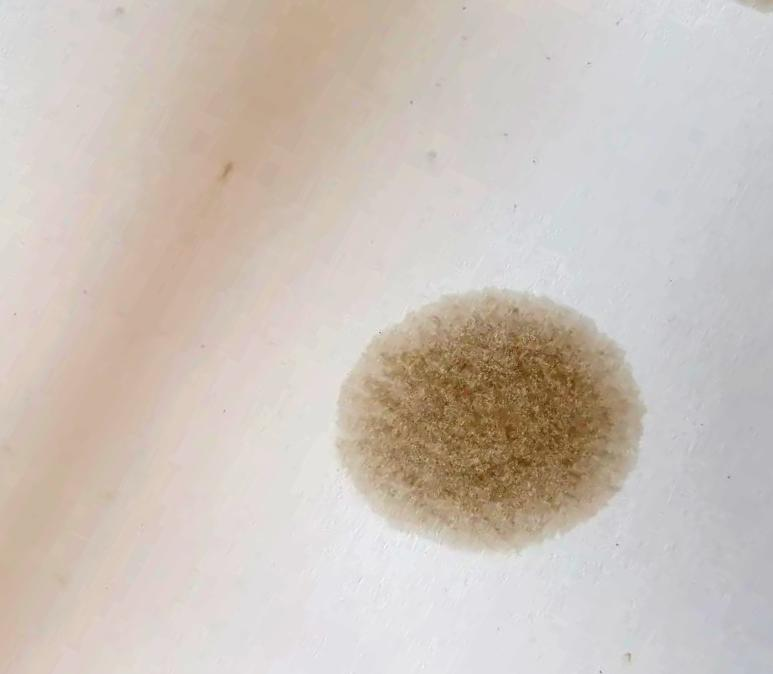stain: (320, 276, 660, 561)
